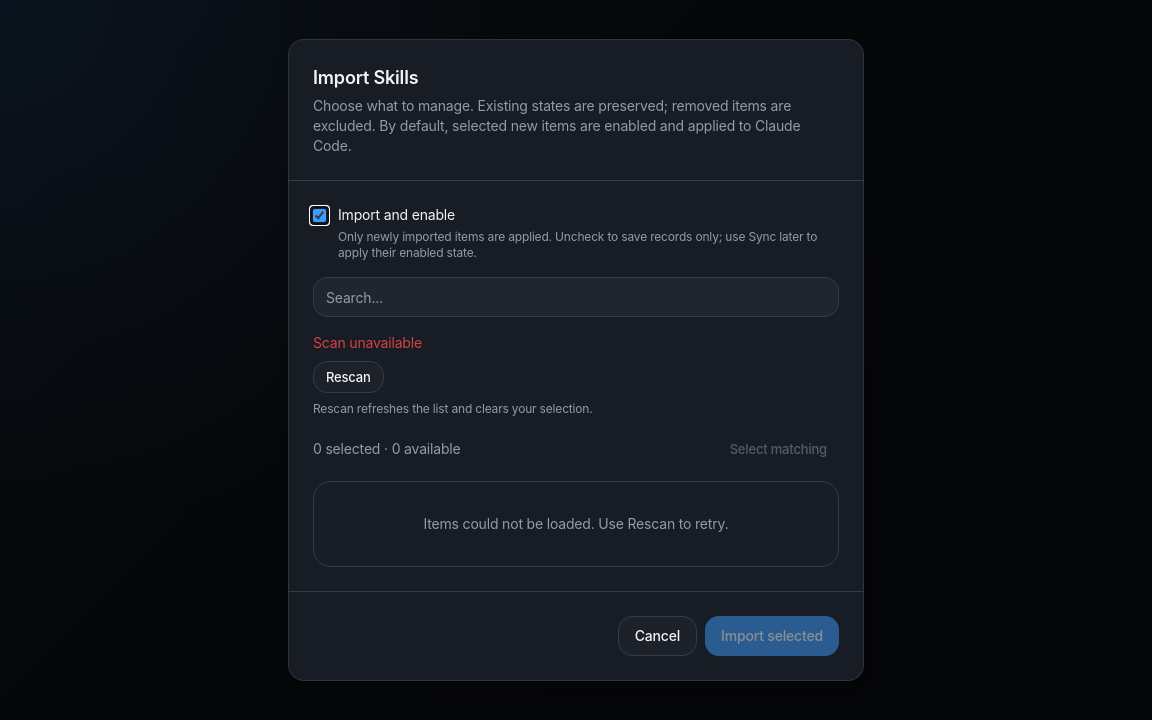
it: rescans after discovery fails instead of claiming that no candidates exist
Expected: the text "Items could not be loaded. Use Rescan to retry." is shown, [424,515,728,532]
Step 1. Click the button "Rescan" → point(348, 377), box [313,361,384,393]
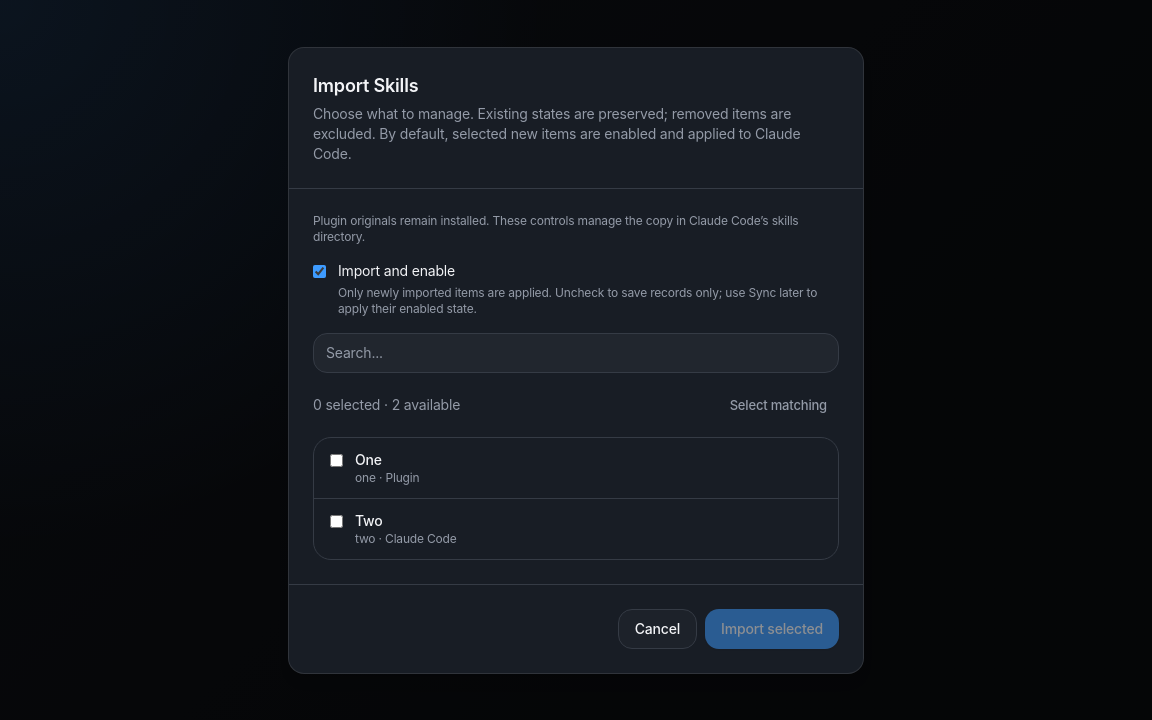
Expected: the checkbox labelled "One one · Plugin" is shown, [330,454,343,466]
